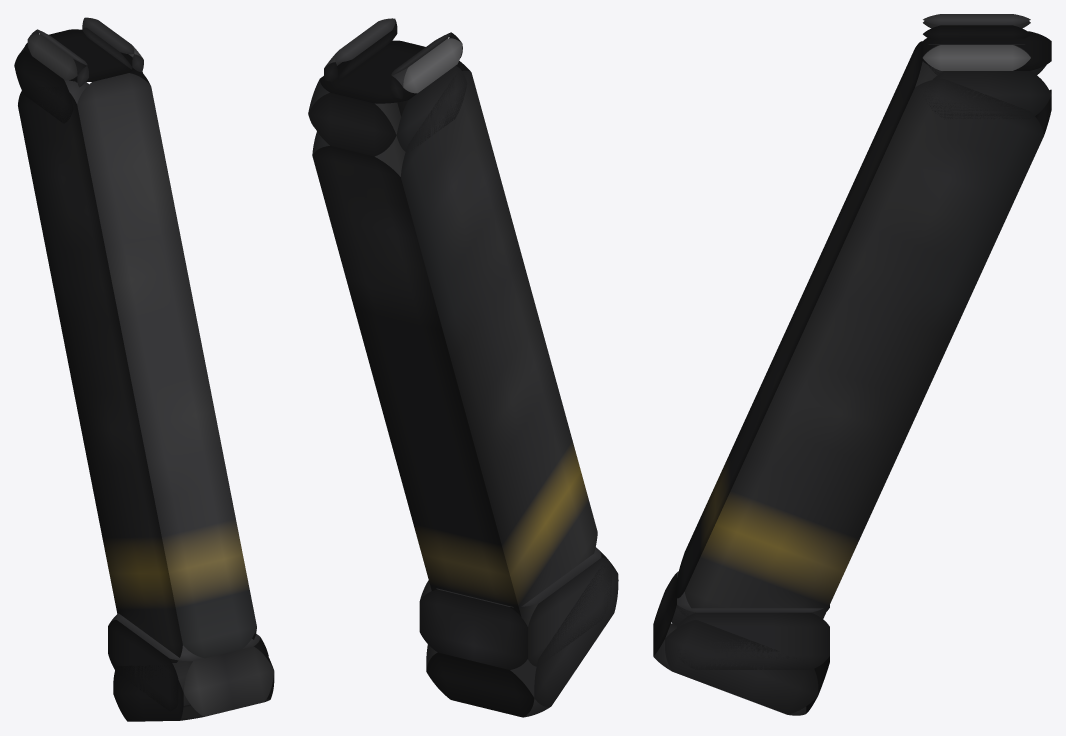
File: udp_9_mag_extended.fbx
The picture shows the model from 3 angles, left to right: view 1: azimuth 30°, elevation 25°; view 2: azimuth 150°, elevation 25°; view 3: azimuth 270°, elevation 25°; orthographic projection. The views are drawn at different scales.
Visible parts, largest first — view 1: cube, cube_4, cube_5, cube_1, cube_2, cube_3; view 2: cube, cube_5, cube_1, cube_4, cube_2, cube_3; view 3: cube, cube_4, cube_5, cube_1, cube_3, cube_2.
Boxes of the visible parts, left/top/right/bottom form: cube: left=18, top=69, right=256, bottom=662; cube_4: left=113, top=646, right=274, bottom=721; cube_5: left=108, top=613, right=268, bottom=711; cube_1: left=14, top=29, right=142, bottom=123; cube_2: left=27, top=29, right=88, bottom=87; cube_3: left=82, top=17, right=143, bottom=72; cube: left=312, top=61, right=597, bottom=626; cube_5: left=419, top=547, right=611, bottom=669; cube_1: left=308, top=40, right=467, bottom=156; cube_4: left=426, top=550, right=618, bottom=717; cube_2: left=389, top=32, right=462, bottom=98; cube_3: left=324, top=18, right=397, bottom=81; cube: left=677, top=41, right=1051, bottom=618; cube_4: left=653, top=573, right=829, bottom=715; cube_5: left=677, top=571, right=829, bottom=669; cube_1: left=922, top=31, right=1051, bottom=119; cube_3: left=922, top=44, right=1030, bottom=70; cube_2: left=923, top=14, right=1030, bottom=38.
Bounding box in the file's own units: 8.59 × 55.67 × 30.07.
1 material, 1 textured.
